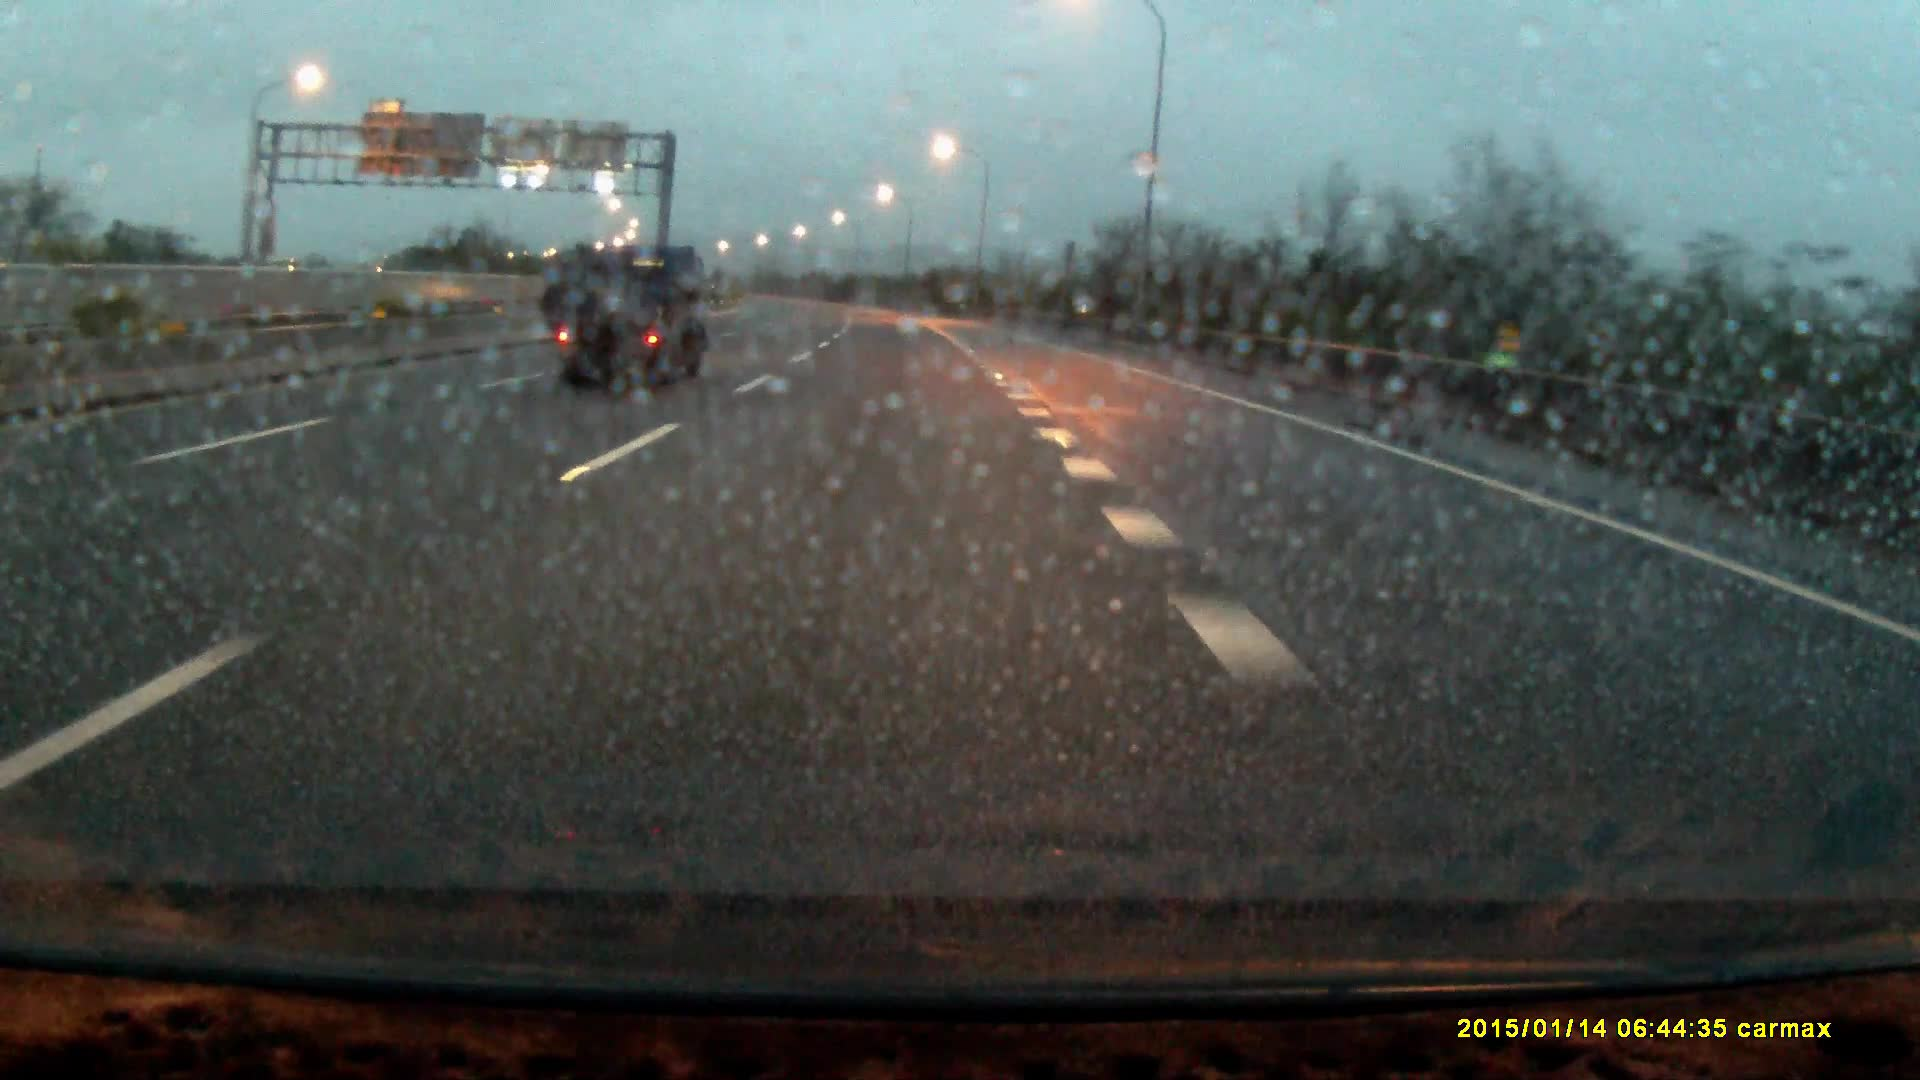vehicle: (550, 252, 715, 394)
